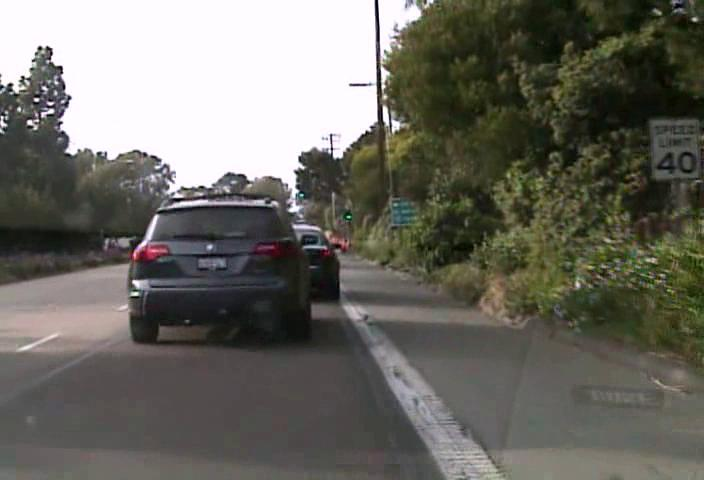speedLimit40: (647, 117, 703, 180)
